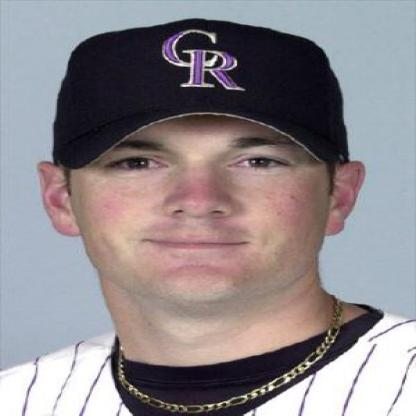face: (67, 26, 336, 313)
